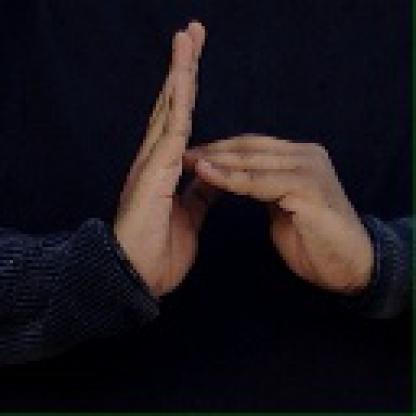Z: (112, 11, 358, 296)
